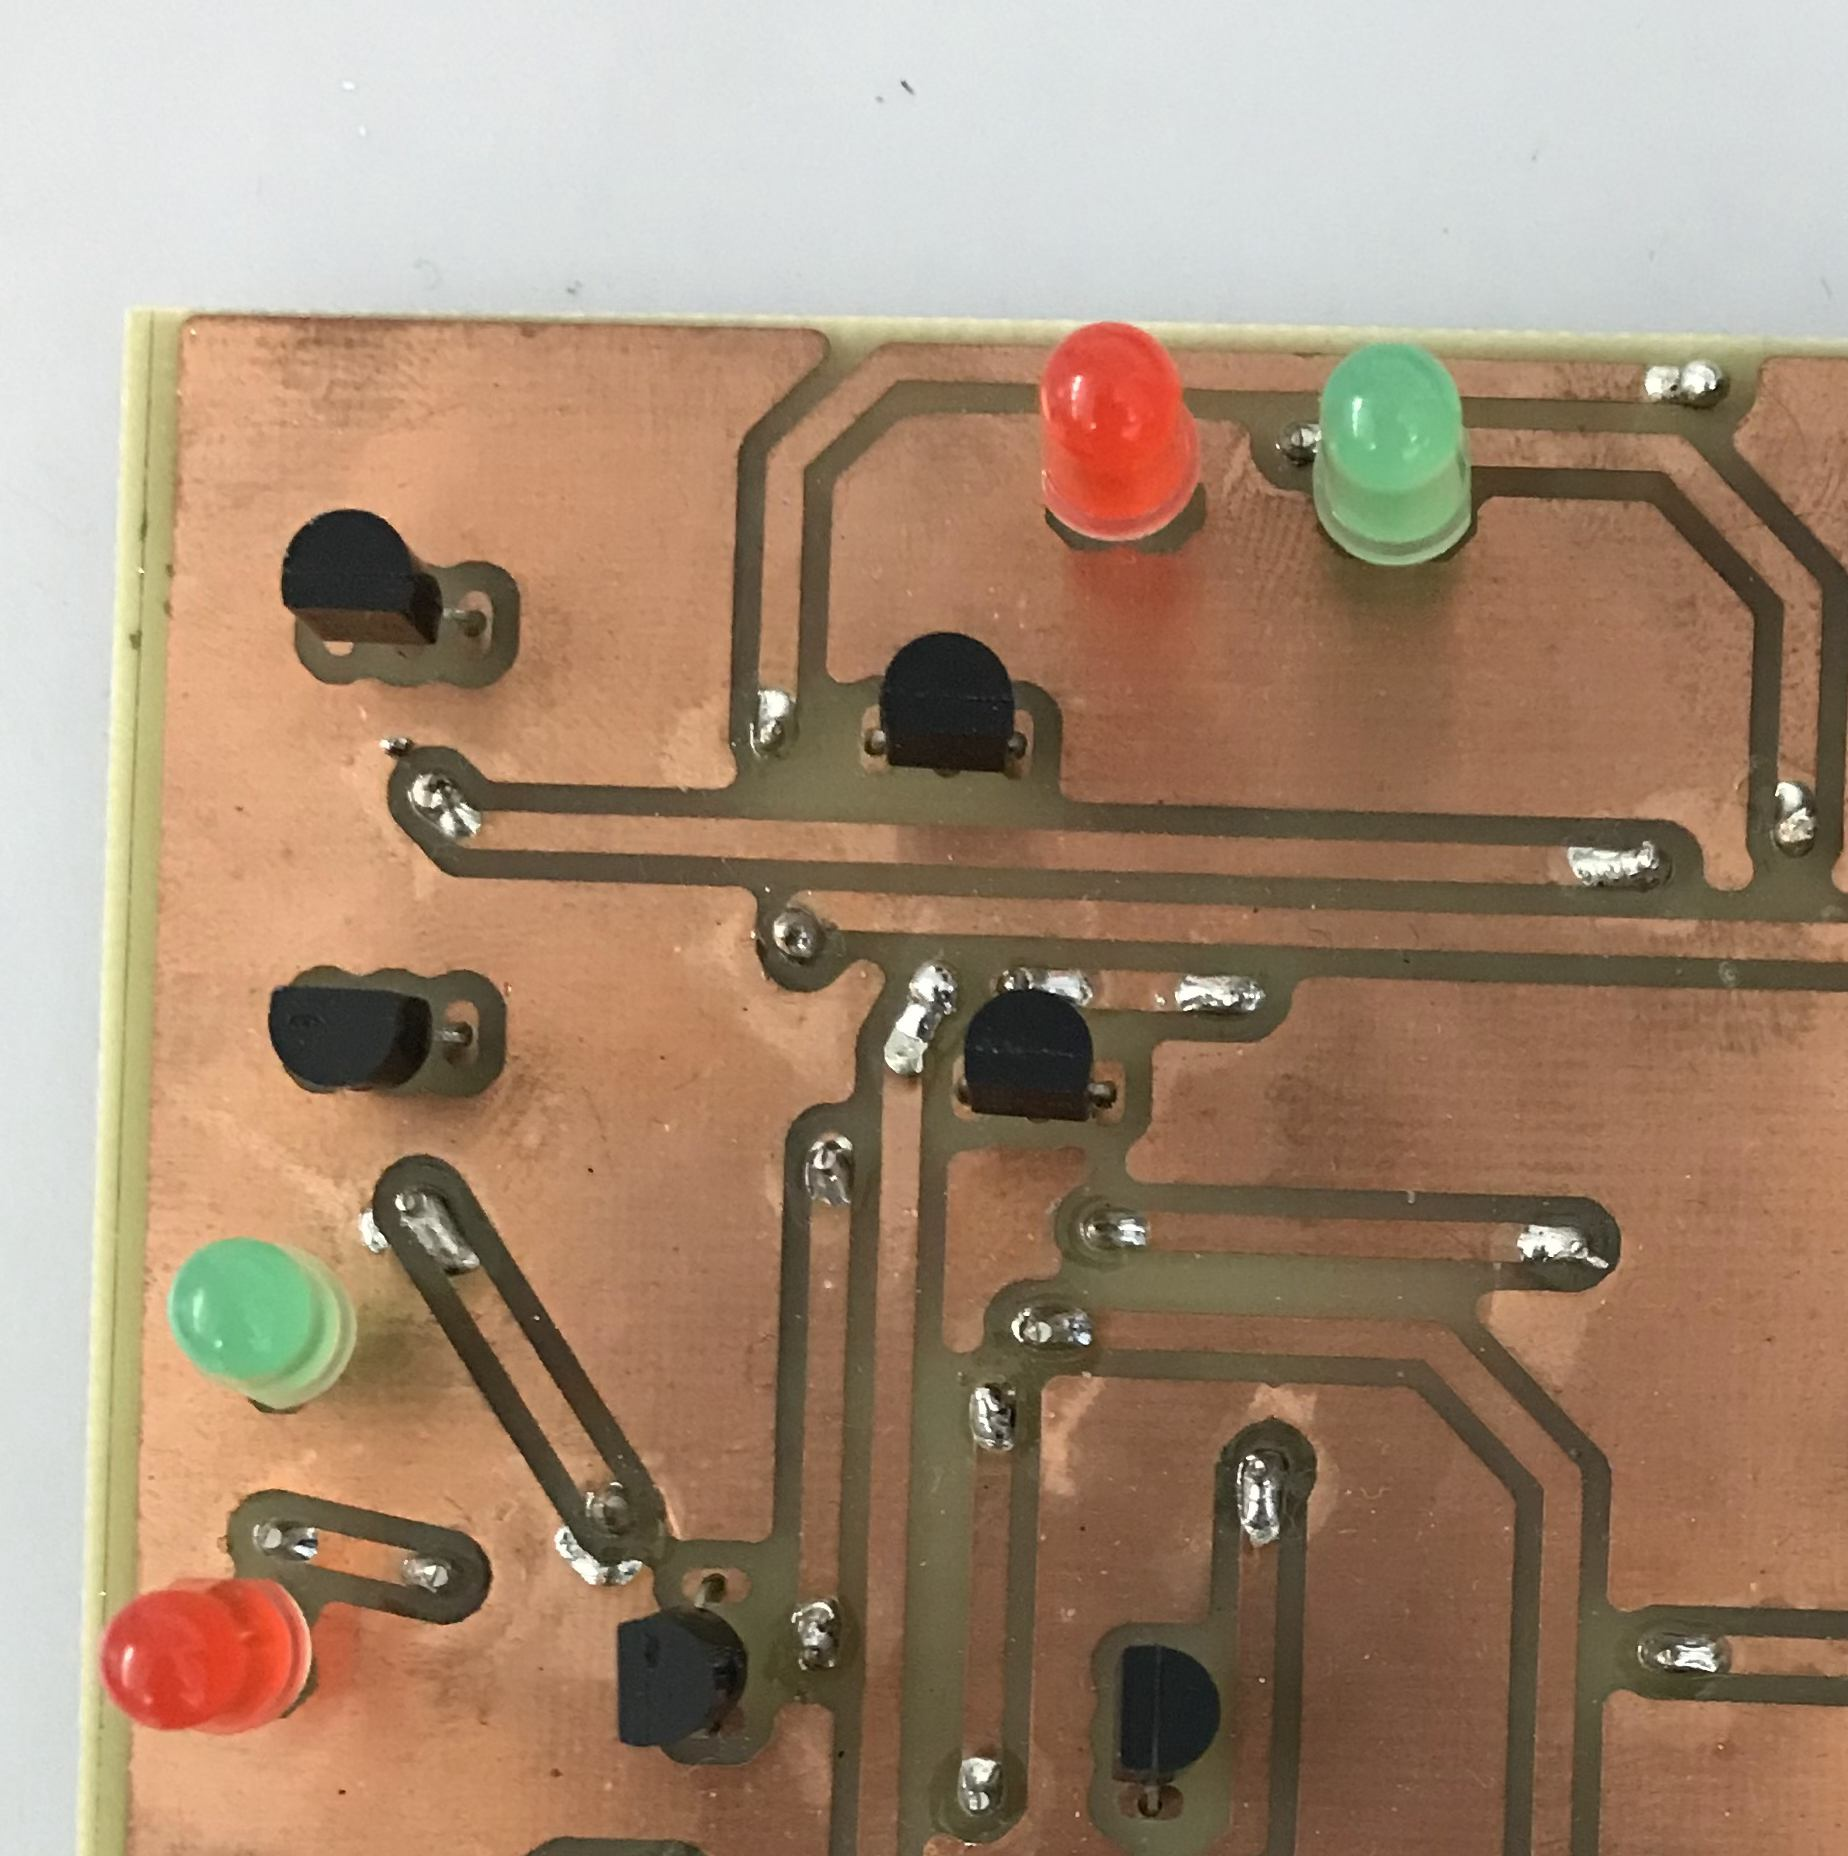LED: (1301, 332, 1482, 575), (1020, 315, 1212, 545), (100, 1572, 318, 1743), (164, 1233, 360, 1418)
